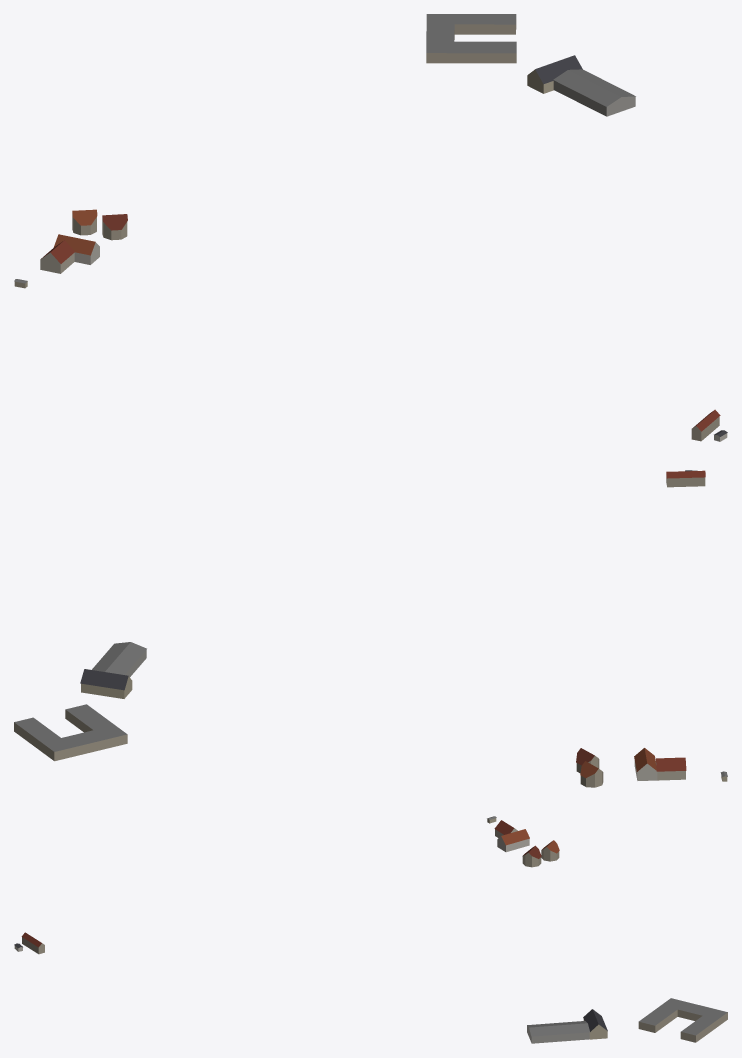
3 views of the same model, one above another, from view 1: azimuth 30°, elevation 25°; view 2: azimuth 150°, elevation 25°; view 3: azimuth 270°, elevation 25° (orthographic). The views are drawn at different scales.
Visible parts, largest first — view 1: buildings; view 2: buildings; view 3: buildings.
Part boxes in pixels (left/top/right/bottom): buildings: left=14, top=14, right=727, bottom=441; buildings: left=14, top=470, right=727, bottom=787; buildings: left=14, top=816, right=727, bottom=1043.
Size of the model in its own units: 398 by 13.46 by 531.
